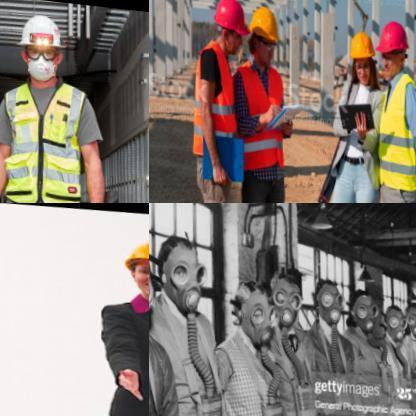vest: (0, 72, 92, 202), (234, 50, 293, 172), (189, 32, 240, 160), (377, 64, 415, 193)
